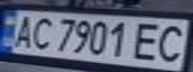0: (87, 18, 112, 56)
1: (106, 18, 133, 58)
7: (51, 16, 75, 53)
9: (69, 17, 93, 55)
A: (6, 12, 39, 50)
C: (148, 21, 193, 63), (27, 15, 57, 52)
E: (127, 19, 169, 62)
